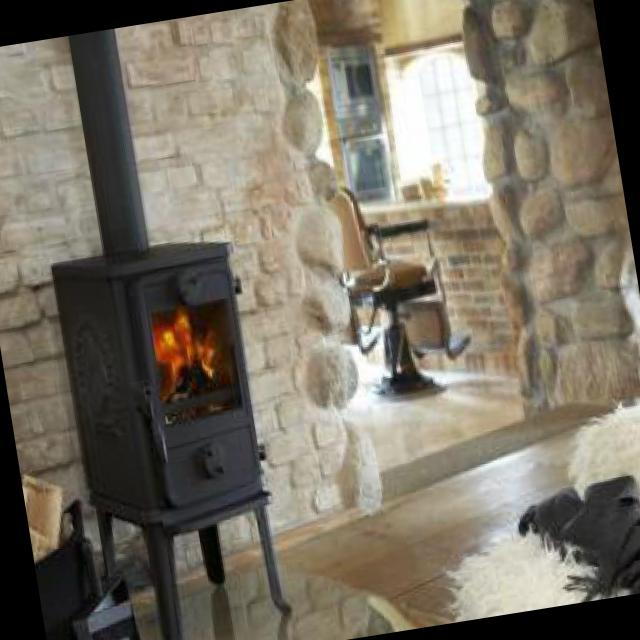fire: (158, 305, 224, 402)
